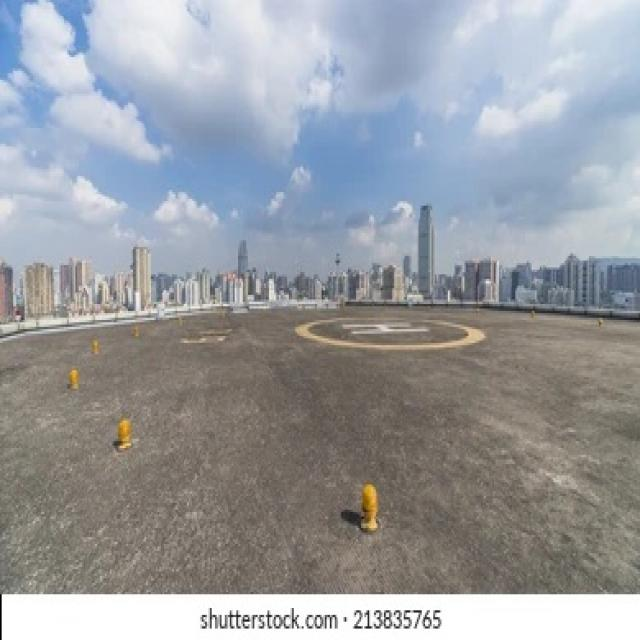helipad: (288, 309, 488, 354)
